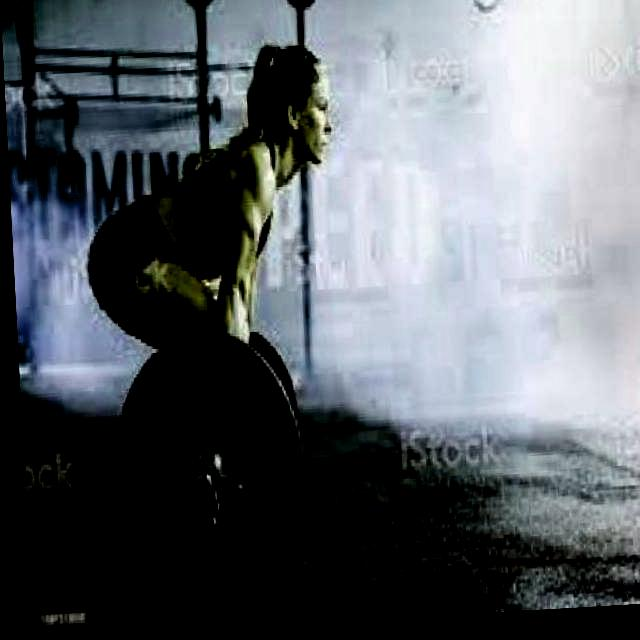barbell: (96, 325, 310, 617)
